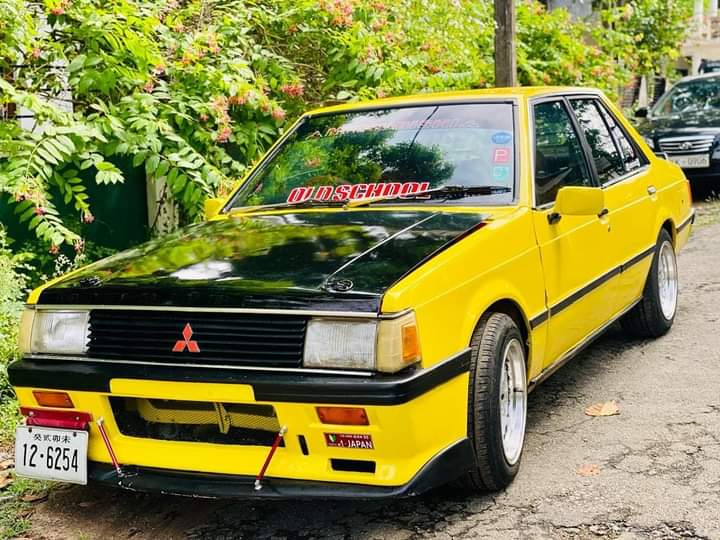number_plate: (14, 430, 87, 483)
